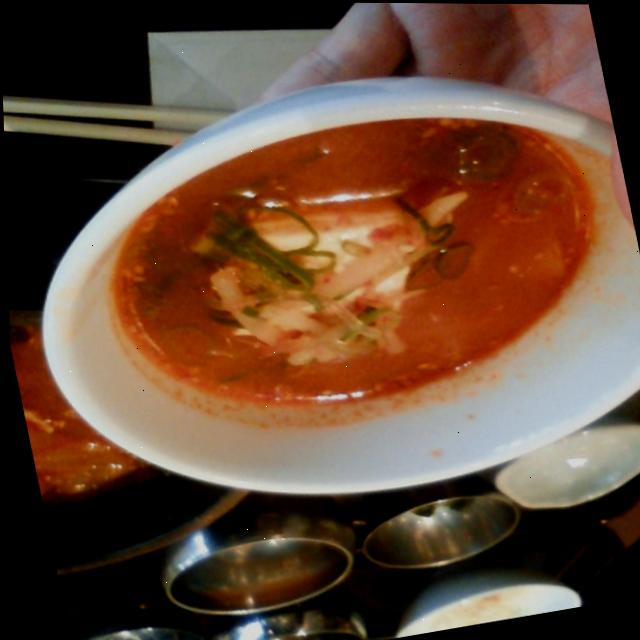汤锅炖物: (1, 27, 640, 561)
